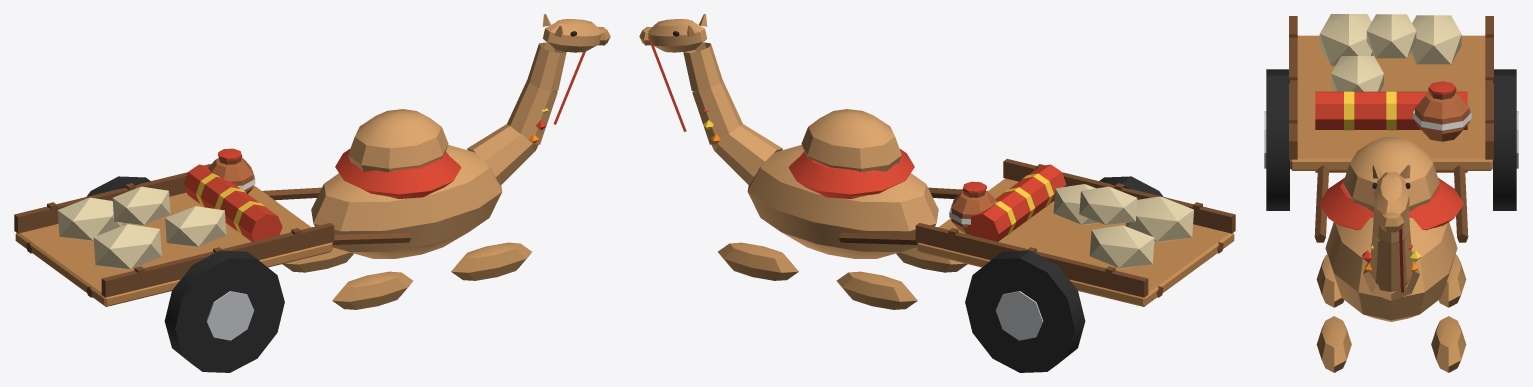
File: camel_cart.glb
The picture shows the model from 3 angles, left to right: view 1: azimuth 30°, elevation 25°; view 2: azimuth 150°, elevation 25°; view 3: azimuth 270°, elevation 25°; orthographic projection. The views are drawn at different scales.
Visible parts, largest first — view 1: camel_cart; view 2: camel_cart; view 3: camel_cart.
Part boxes in pixels (x1=…): camel_cart: x1=14, y1=14, x2=610, y2=372; camel_cart: x1=639, y1=14, x2=1235, y2=372; camel_cart: x1=1264, y1=14, x2=1518, y2=372.
Bounding box in the file's own units: 4.2 × 1.61 × 1.5.
Materials: 1 (1 with a texture image).
